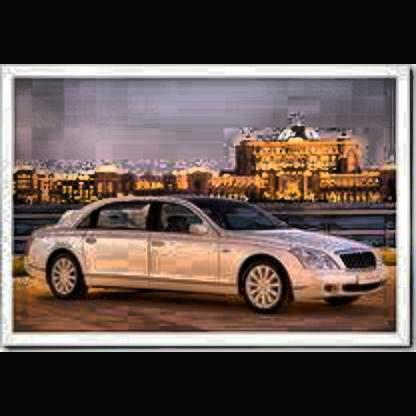Maybach Landaulet Convertible 2012: (23, 189, 397, 315)
